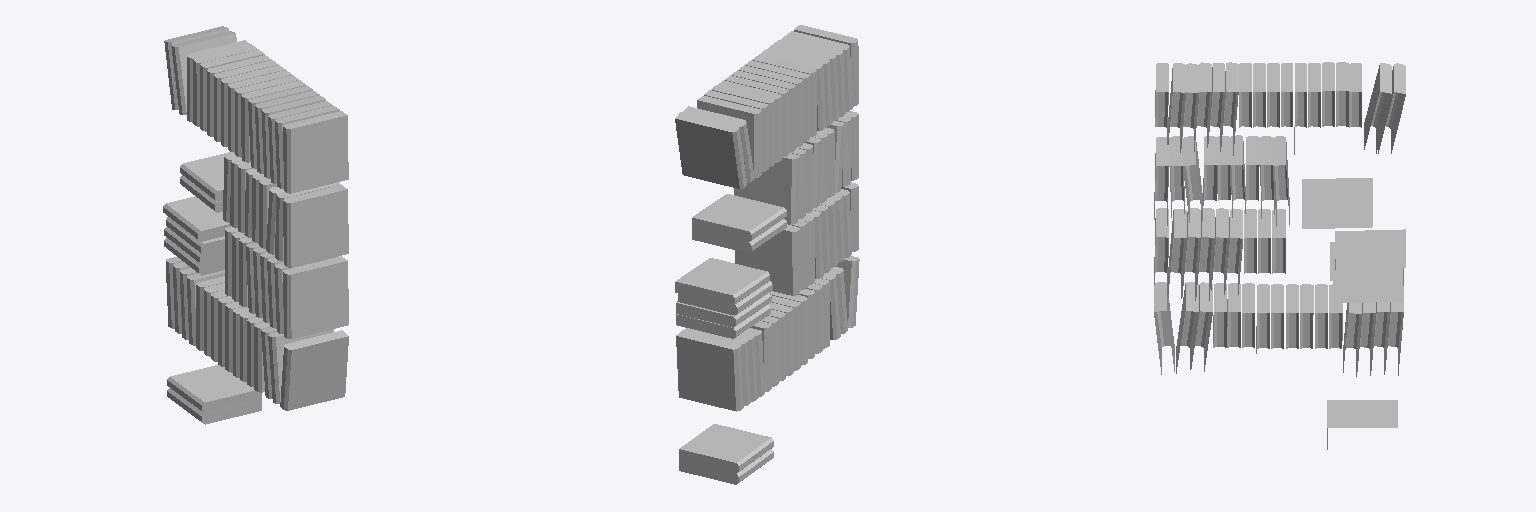
File: books.obj
The picture shows the model from 3 angles: view 1: azimuth 30°, elevation 25°; view 2: azimuth 150°, elevation 25°; view 3: azimuth 270°, elevation 25°; orthographic projection.
Parts seen in each view (by area): view 1: Object007; view 2: Object007; view 3: Object007.
Boxes of the visible parts, <box> form: Object007: <box>163,26,348,424</box>; Object007: <box>675,25,859,484</box>; Object007: <box>1154,62,1405,449</box>.
Size of the model in its own units: 0.3437 by 1.96 by 1.25.